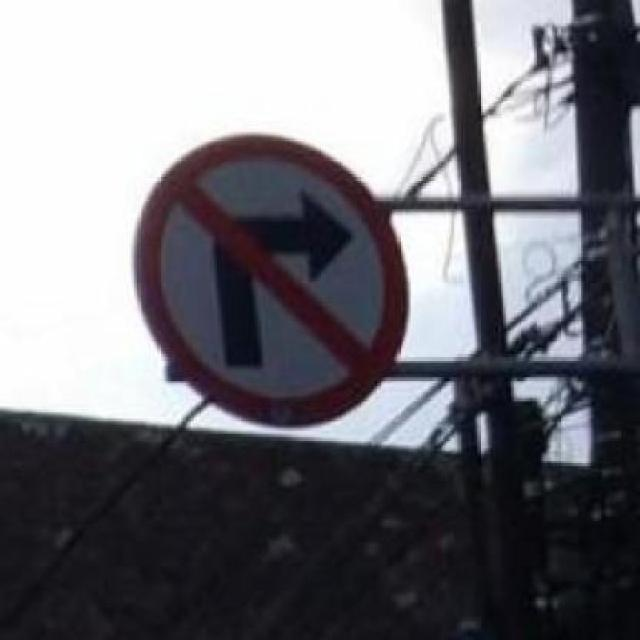right turn prohibited: (128, 125, 413, 430)
